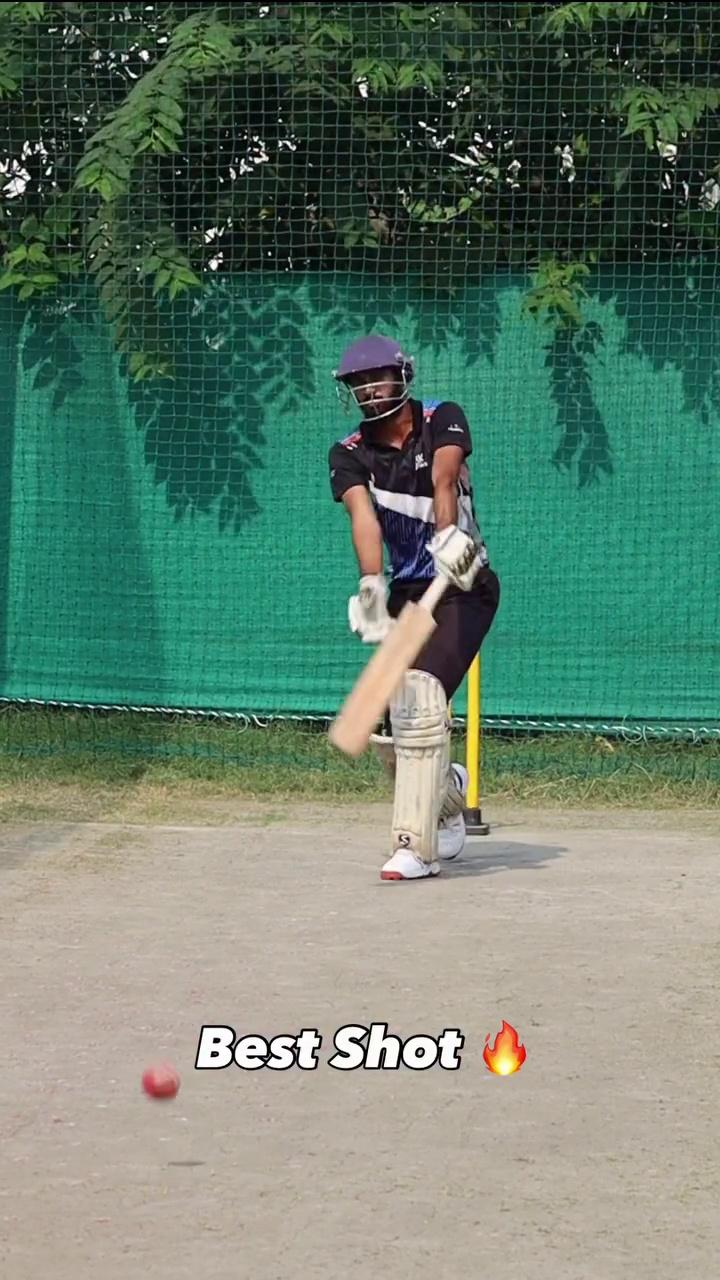bat: (321, 599, 443, 762)
